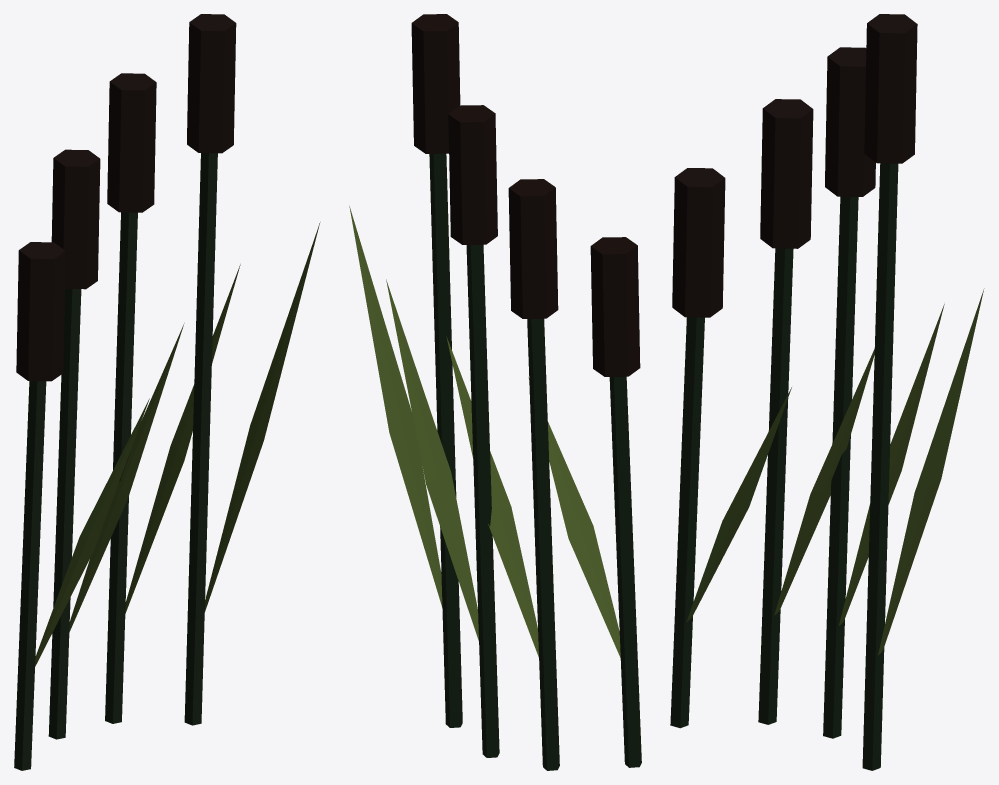
The model's file is Plant_Cattail_02.fbx.
The picture shows the model from 3 angles, left to right: view 1: azimuth 30°, elevation 25°; view 2: azimuth 150°, elevation 25°; view 3: azimuth 330°, elevation 25°; orthographic projection. The views are drawn at different scales.
Visible parts, largest first — view 1: Plant_Cattail_02_Mesh; view 2: Plant_Cattail_02_Mesh; view 3: Plant_Cattail_02_Mesh.
Boxes of the visible parts, box(x1,y1,x2,y2) form: Plant_Cattail_02_Mesh: box(14, 14, 320, 770); Plant_Cattail_02_Mesh: box(349, 14, 641, 770); Plant_Cattail_02_Mesh: box(670, 14, 984, 770).
Size of the model in its own units: 0.6152 by 1.37 by 0.1875.
1 material, 1 textured.
